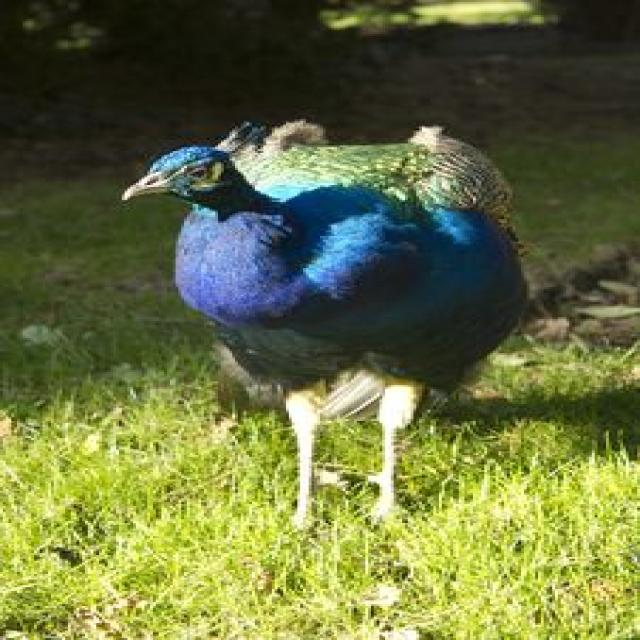peacock: (98, 108, 548, 542)
